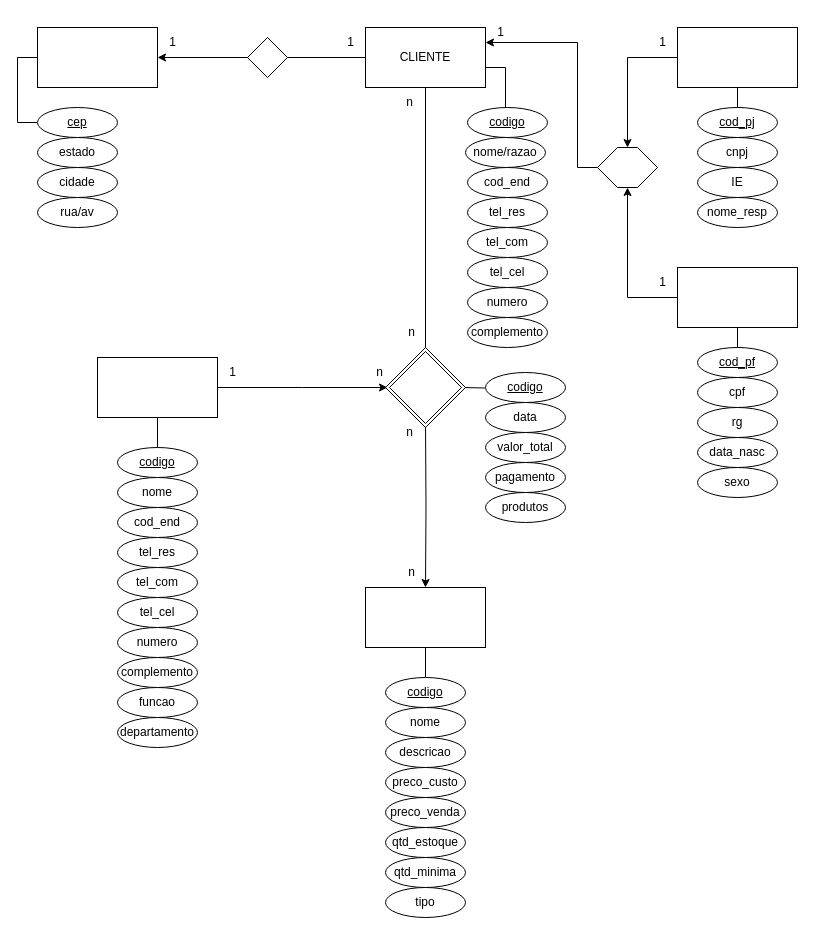
Image size: 815x935. Some labels were removed from this diagram. The shapes that lost their labels are listed below. From the top down, each one's centre as x and y in pixels, then its label:
[97,57]: ENDERECO
[267,57]: TEM
[737,57]: CLIENTE_PJ
[627,167]: D T
[737,297]: CLIENTE_PF
[157,387]: FUNCIONARIO
[425,387]: VENDA
[425,617]: PRODUTO
